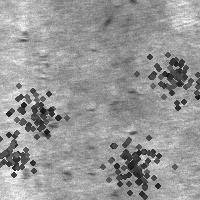rolled-in_scale: (20, 28, 68, 182), (91, 121, 175, 200), (0, 76, 66, 146), (138, 41, 200, 107), (97, 85, 147, 140), (0, 126, 34, 178)
